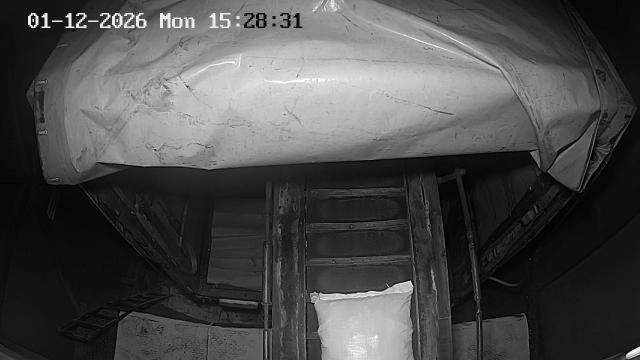bag: (312, 280, 414, 360)
